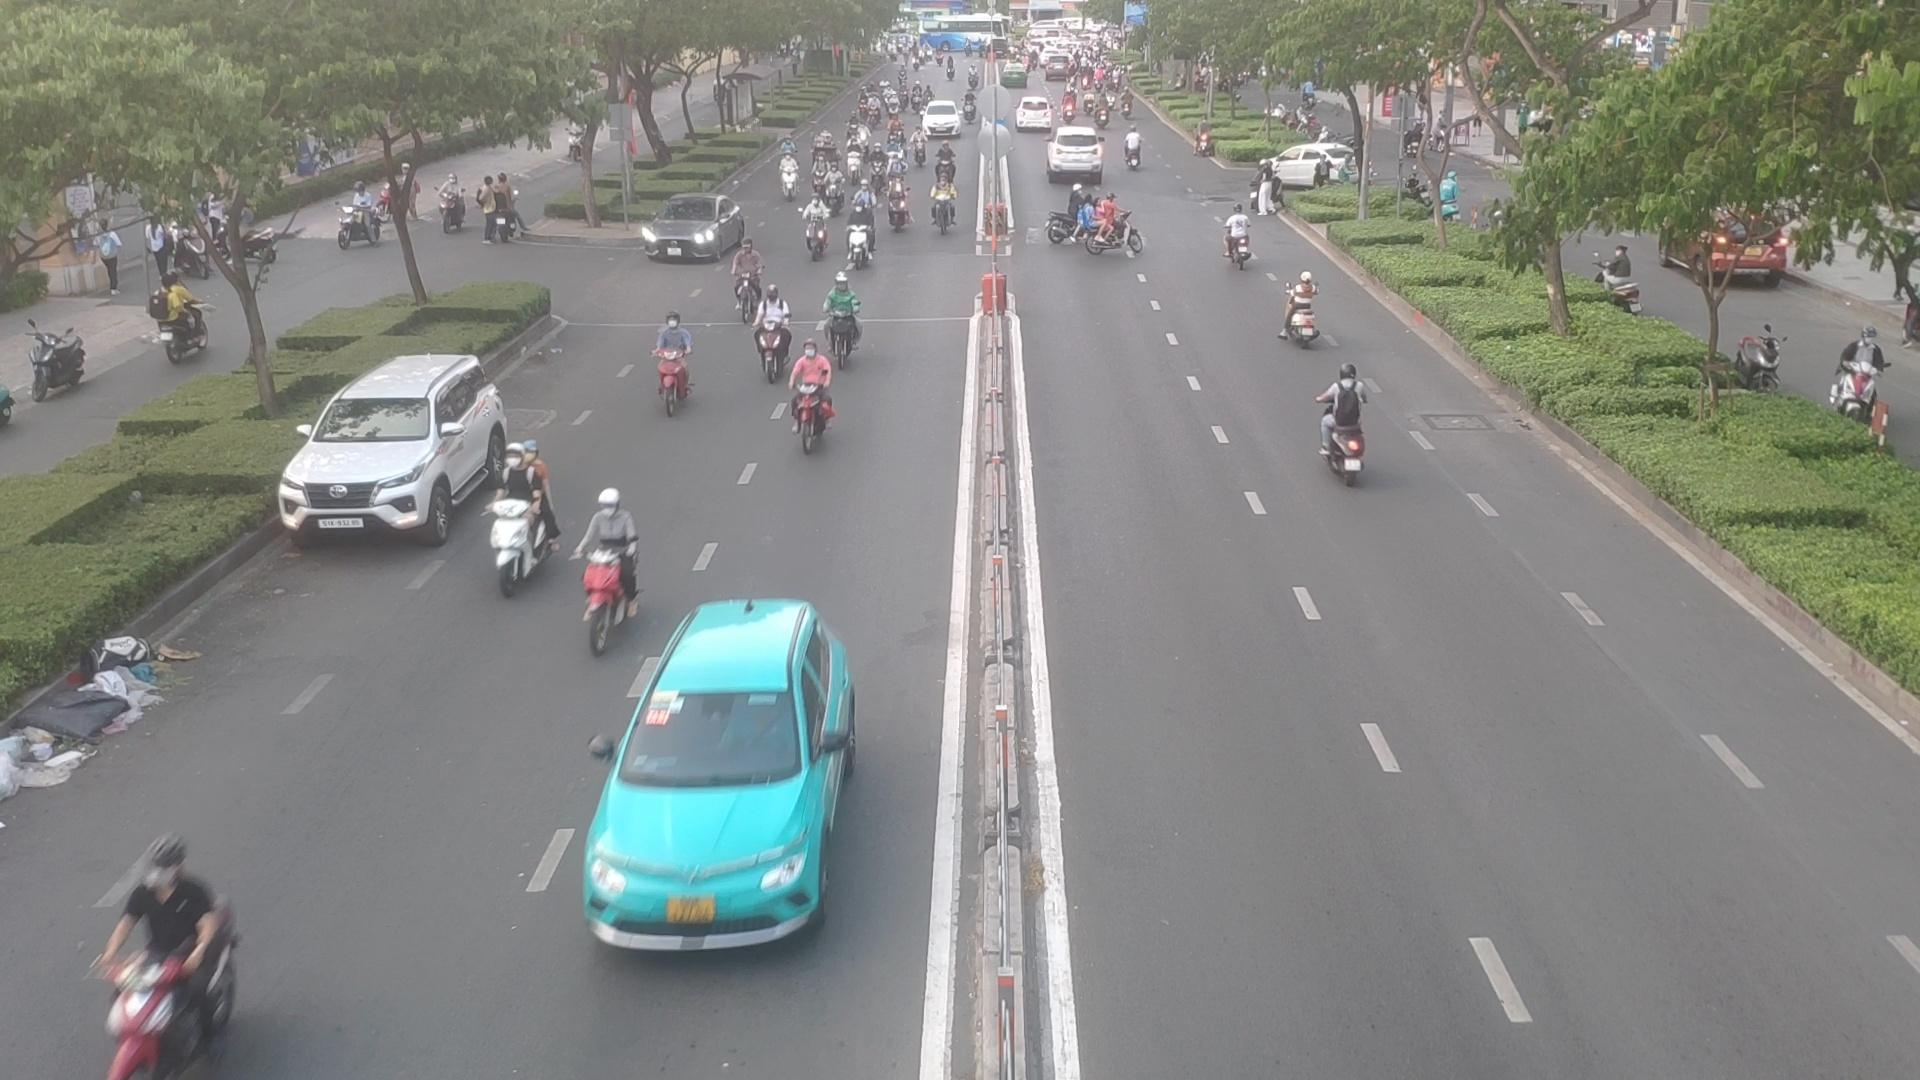car: (578, 597, 855, 949), (278, 357, 512, 546), (644, 198, 749, 262), (1255, 136, 1367, 191), (1044, 123, 1112, 177)
motorbike: (120, 831, 228, 1077), (579, 477, 638, 629), (491, 444, 551, 576), (1308, 371, 1379, 483), (785, 338, 844, 447), (651, 311, 707, 419), (1081, 194, 1141, 258), (1218, 200, 1265, 281), (823, 276, 866, 355), (756, 282, 785, 377), (1284, 269, 1320, 344), (732, 243, 760, 309), (928, 171, 957, 233), (844, 202, 870, 262), (885, 173, 913, 227), (934, 144, 957, 186), (1121, 127, 1142, 171), (808, 193, 822, 255), (781, 156, 796, 202), (886, 136, 903, 175), (812, 153, 829, 191), (825, 164, 839, 212), (870, 140, 882, 193), (913, 127, 928, 164), (849, 140, 862, 183)
